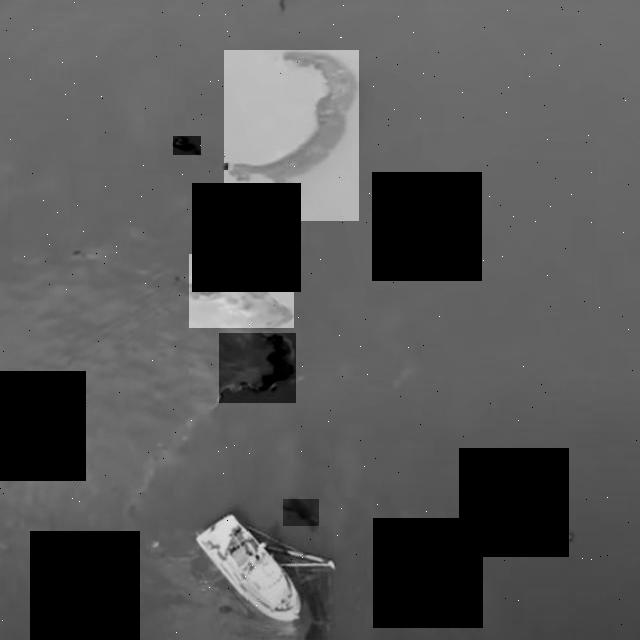oil spill: (224, 51, 359, 221), (249, 527, 334, 639), (189, 254, 294, 328), (219, 334, 296, 403), (283, 499, 319, 534), (173, 137, 201, 155), (223, 164, 228, 170)
